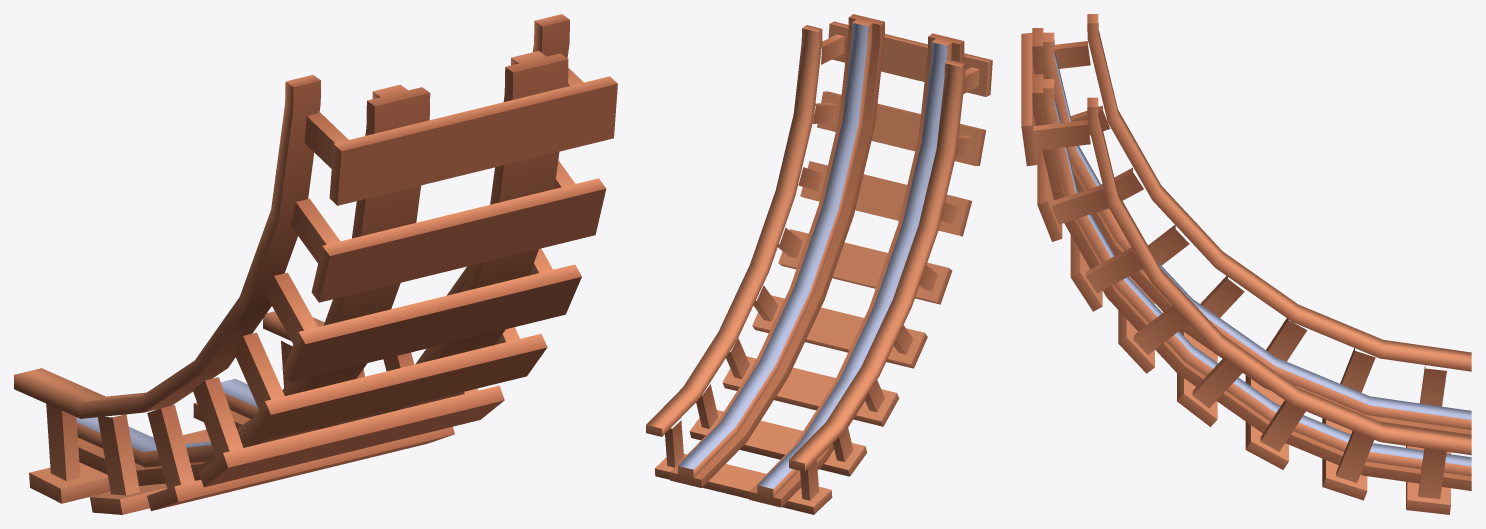
Rendered from kenney-coaster-coaster-wood-straight-bend.glb.
3 views of the same model, side by side, from view 1: azimuth 30°, elevation 25°; view 2: azimuth 150°, elevation 25°; view 3: azimuth 270°, elevation 25° (orthographic). The views are drawn at different scales.
Visible parts, largest first — view 1: coaster-wood-straight-bend; view 2: coaster-wood-straight-bend; view 3: coaster-wood-straight-bend.
Boxes of the visible parts, left/top/right/bottom form: coaster-wood-straight-bend: left=14, top=14, right=617, bottom=514; coaster-wood-straight-bend: left=646, top=14, right=992, bottom=514; coaster-wood-straight-bend: left=1021, top=14, right=1471, bottom=514.
Size of the model in its own units: 1 by 2.05 by 2.05.
Materials: 1 (1 with a texture image).
